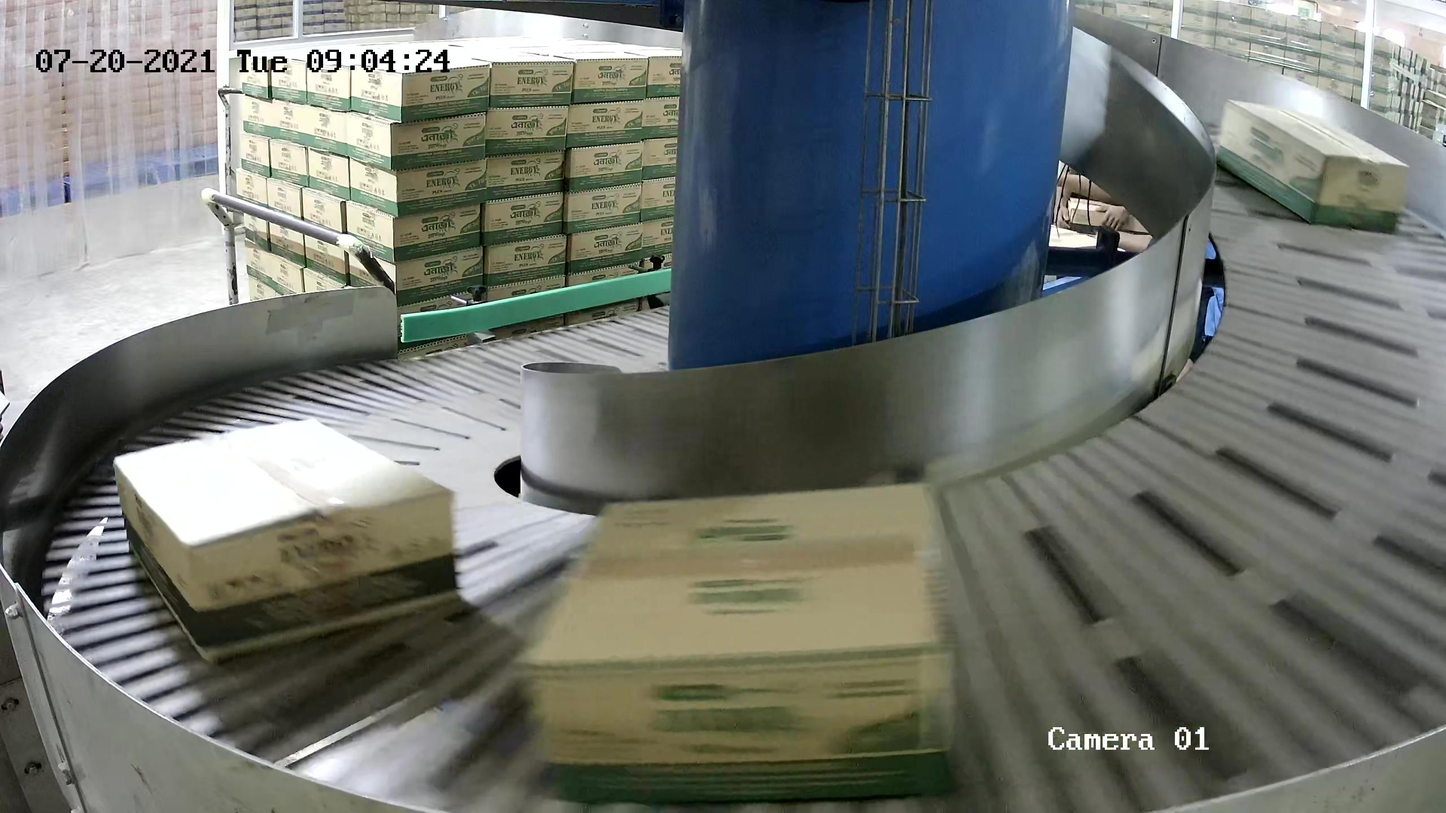Box: (521, 471, 978, 807), (106, 412, 458, 666), (1201, 93, 1424, 240)
